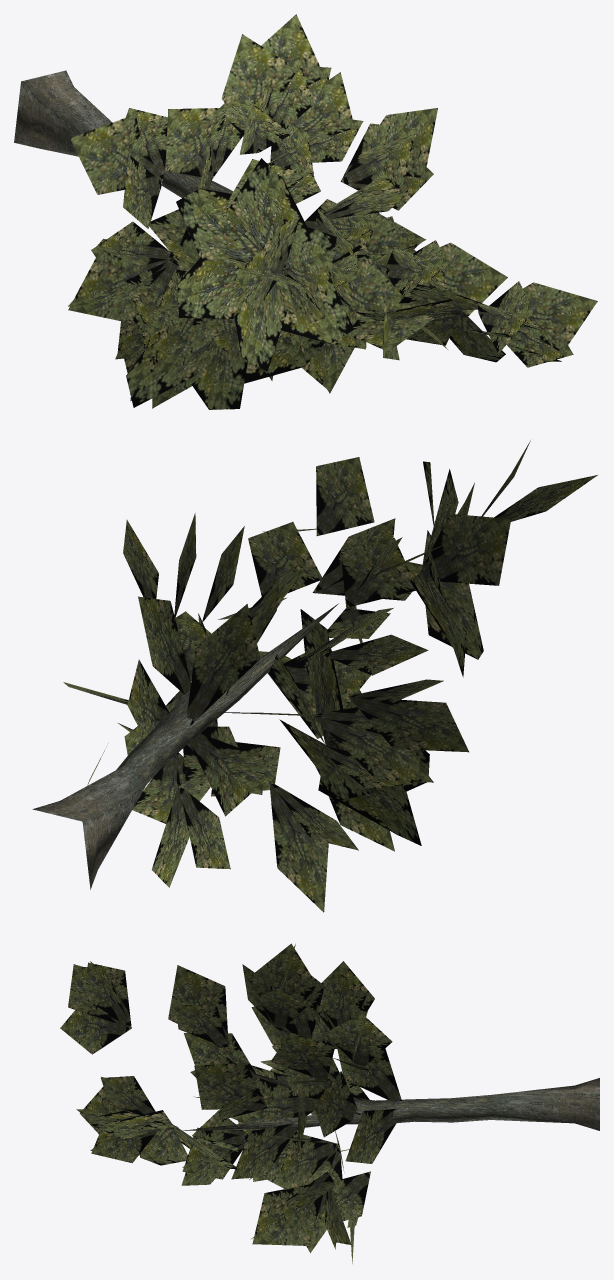
Rendered from shadow_tree_grey_oak_med_a.glb.
3 views of the same model, one above another, from view 1: azimuth 30°, elevation 25°; view 2: azimuth 150°, elevation 25°; view 3: azimuth 270°, elevation 25° (orthographic). The views are drawn at different scales.
Bounding box in the file's own units: 228 × 224 × 396.
Materials: 2 (2 with a texture image).
